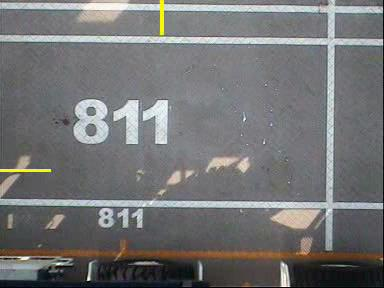groundmarker_2: (195, 112, 234, 170)
